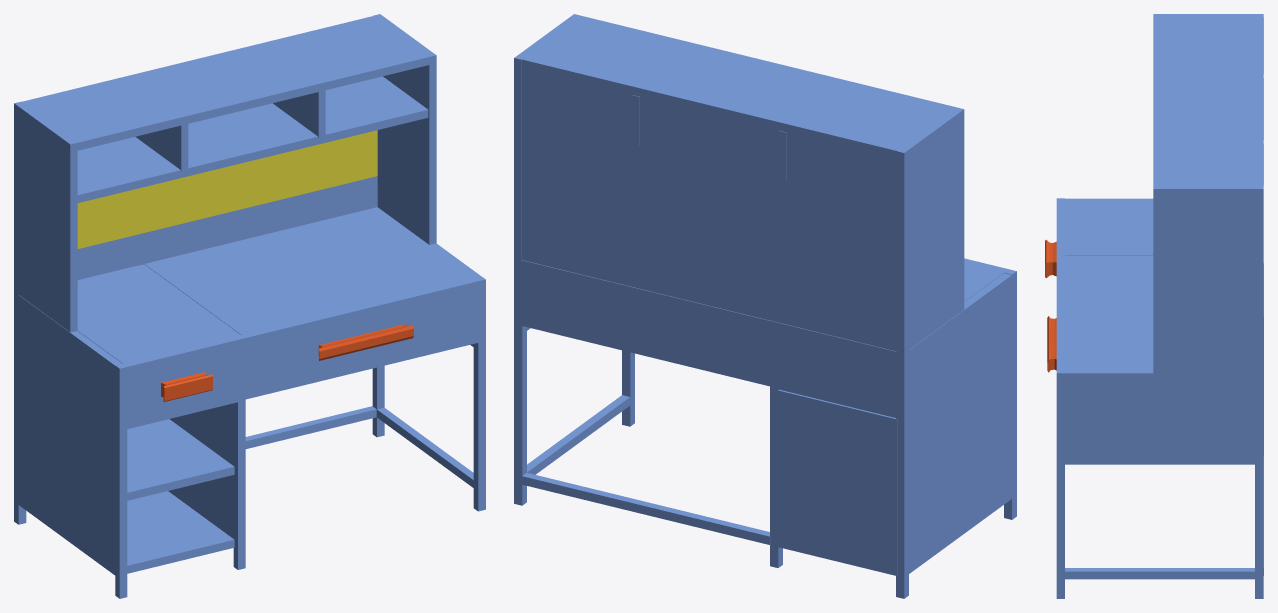
Rendered from desk.fbx.
The picture shows the model from 3 angles, left to right: view 1: azimuth 30°, elevation 25°; view 2: azimuth 150°, elevation 25°; view 3: azimuth 270°, elevation 25°; orthographic projection. The views are drawn at different scales.
Parts seen in each view (by area): view 1: Cube, Cube.016, Cube.010, Cube.020, Cube.007, Cube.019, Cube.017, Cube.018, Cube.012, Cube.014, Cube.009, Cube.003 (+8 smaller); view 2: Cube.016, Cube.010, Cube.020, Cube.013, Cube, Cube.017, Cube.007, Cube.015, Cube.002, Cube.006, Cube.018, Cube.005 (+3 smaller); view 3: Cube.018, Cube.020, Cube.011, Cube, Cube.007, Cube.009, Cube.008, Cube.001, Cube.006, Cube.016, Cube.017, Cube.010.
Boxes of the visible parts, x1,y1,x2,y2 form: Cube: (144,207,478,399); Cube.016: (21,16,377,279); Cube.010: (18,295,121,575); Cube.020: (26,19,430,150); Cube.007: (77,265,238,428); Cube.019: (77,76,428,202); Cube.017: (14,101,77,332); Cube.018: (373,14,436,244); Cube.012: (127,491,234,573); Cube.014: (127,419,234,500); Cube.009: (138,264,240,538); Cube.003: (115,363,127,598); Cube.016: (522,56,901,351); Cube.010: (908,273,1012,573); Cube.020: (527,16,956,147); Cube.013: (778,389,897,576); Cube: (522,260,769,386); Cube.017: (896,107,964,353); Cube.007: (777,258,1008,417); Cube.015: (521,473,770,545); Cube.002: (896,350,908,598); Cube.006: (514,258,526,505); Cube.018: (514,14,581,259); Cube.005: (770,320,782,567); Cube.018: (1153,185,1263,373); Cube.020: (1153,17,1254,185); Cube.011: (1064,369,1255,441); Cube: (1047,258,1153,372); Cube.007: (1045,202,1153,278); Cube.009: (1065,255,1254,464); Cube.008: (1065,568,1255,579); Cube.001: (1056,369,1064,598); Cube.006: (1255,373,1263,598); Cube.016: (1255,17,1262,185); Cube.017: (1153,14,1263,140); Cube.010: (1065,198,1153,201).
Size of the model in its own units: 4800 by 5242 by 2537.
